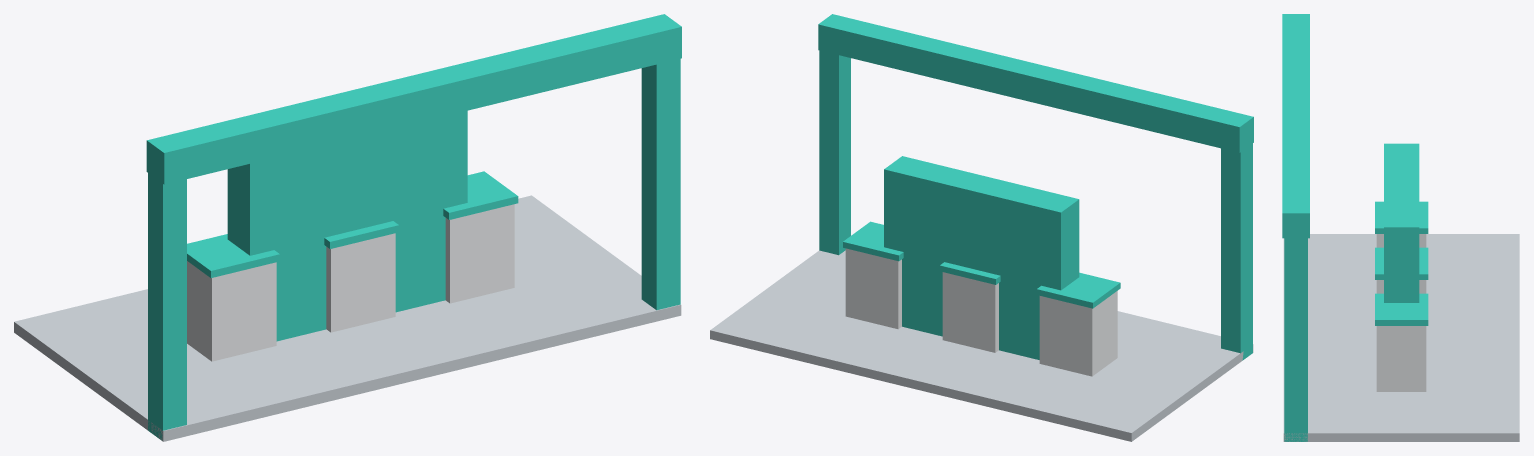
The picture shows the model from 3 angles, left to right: view 1: azimuth 30°, elevation 25°; view 2: azimuth 150°, elevation 25°; view 3: azimuth 270°, elevation 25°; orthographic projection. The views are drawn at different scales.
Parts seen in each view (by area): view 1: Exhibition Booth Concept; view 2: Exhibition Booth Concept; view 3: Exhibition Booth Concept.
Boxes of the visible parts, x1=… form: Exhibition Booth Concept: x1=14, y1=14, x2=681, y2=441; Exhibition Booth Concept: x1=710, y1=14, x2=1253, y2=441; Exhibition Booth Concept: x1=1282, y1=14, x2=1519, y2=441.
Bounding box in the file's own units: 6 × 3.2 × 3.01.
